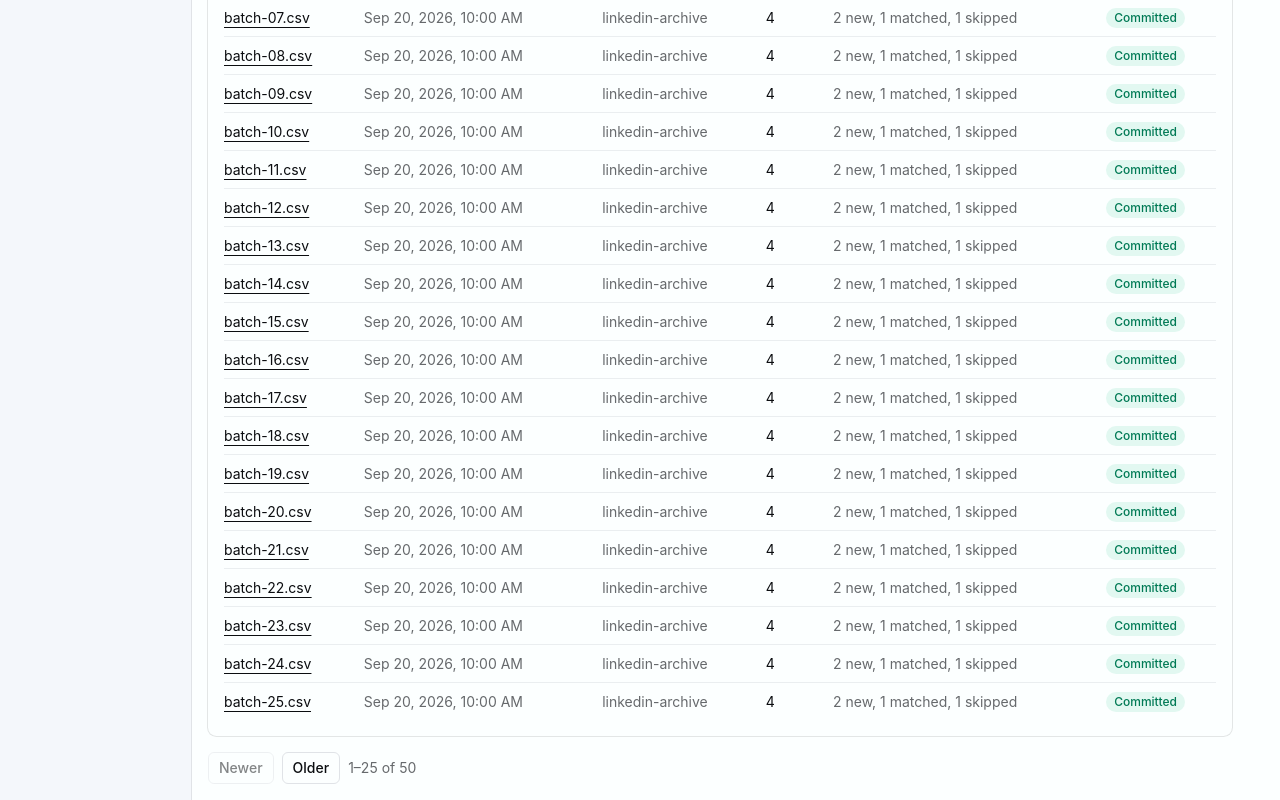
Test: import history › stops at a last page that is exactly full
(page scrolled)
Click the button "Older" at [311, 768], box [282, 752, 340, 784]
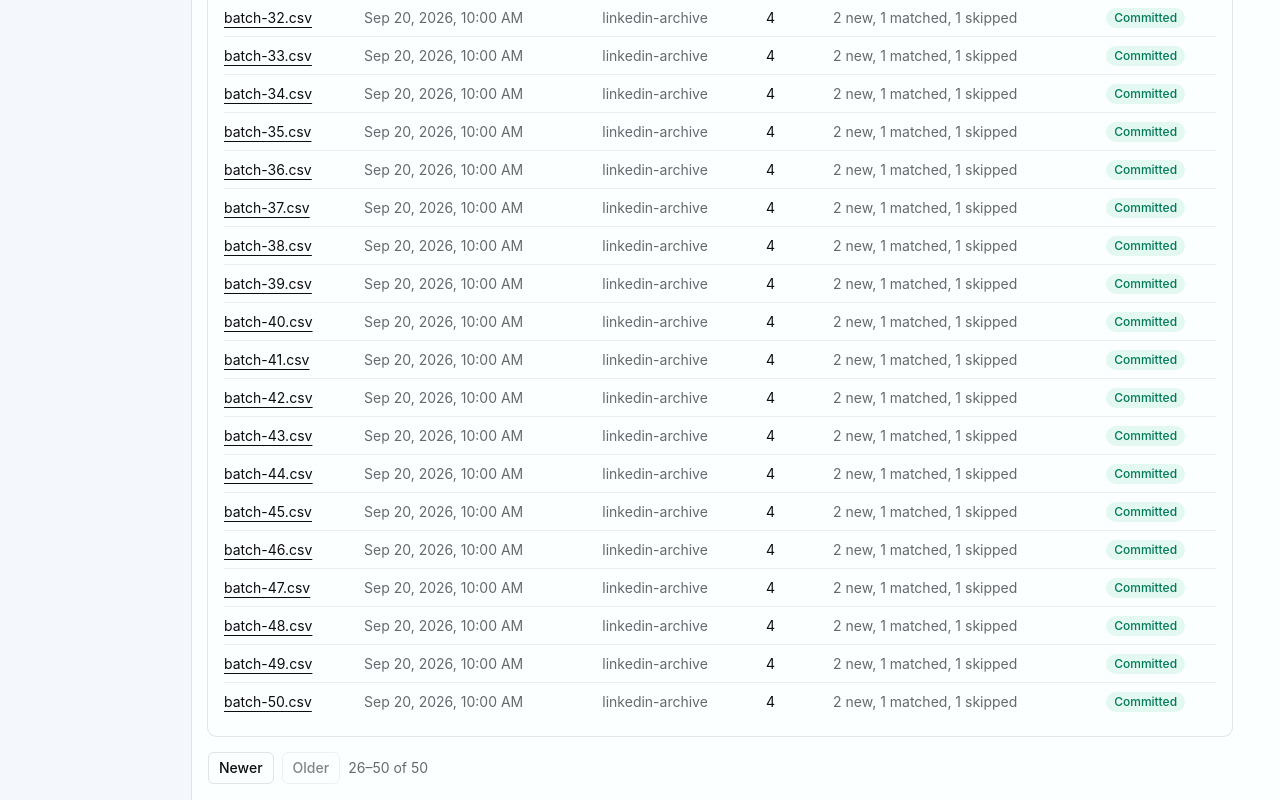
Result: the link "batch-50.csv" is shown at [224, 692, 312, 710]
Result: the text "26–50 of 50" is shown at [348, 758, 428, 778]
Result: the button "Older" is disabled at [282, 752, 340, 784]
